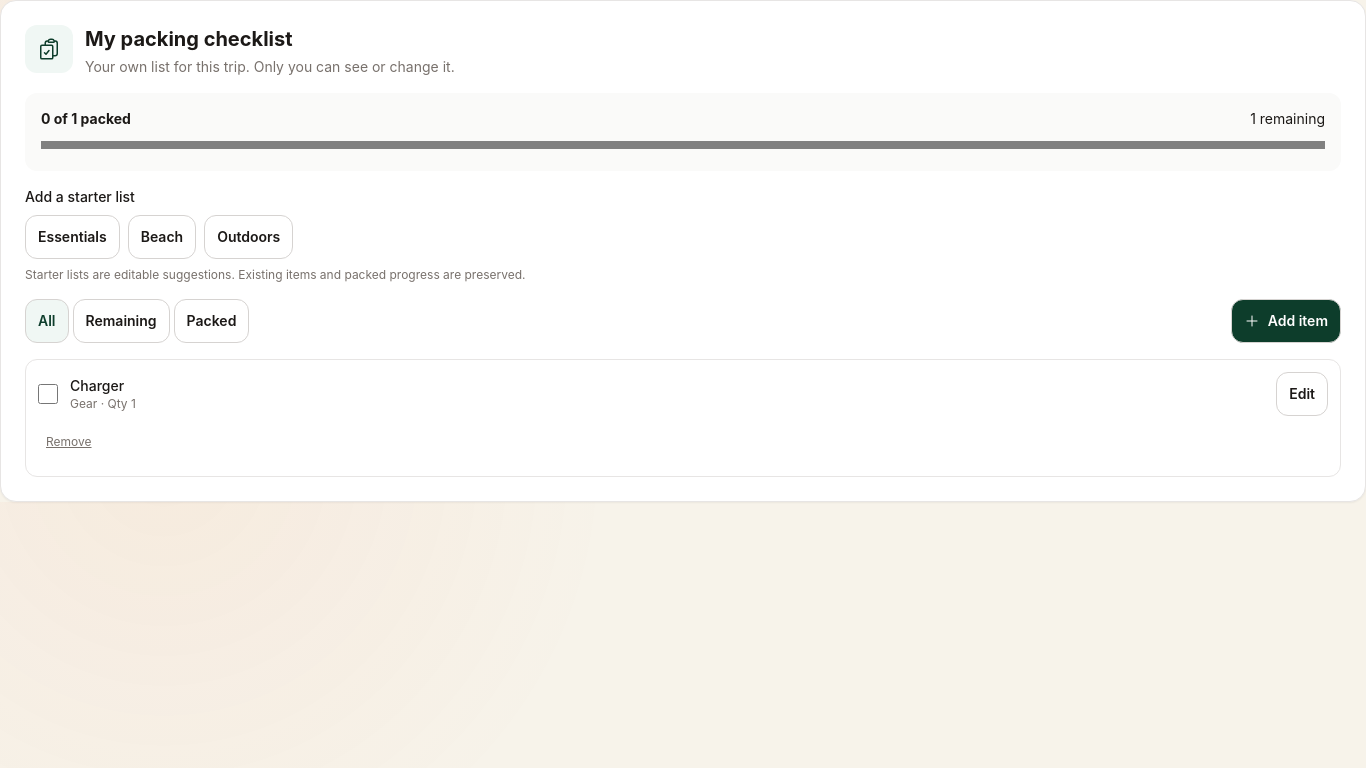
Test case: does not show failed updates as packed
What coordinates should you click on to do the following:
click the checkbox named "Packed: Charger"
I would click on:
 (48, 394)
Its box is [38,384,58,404].
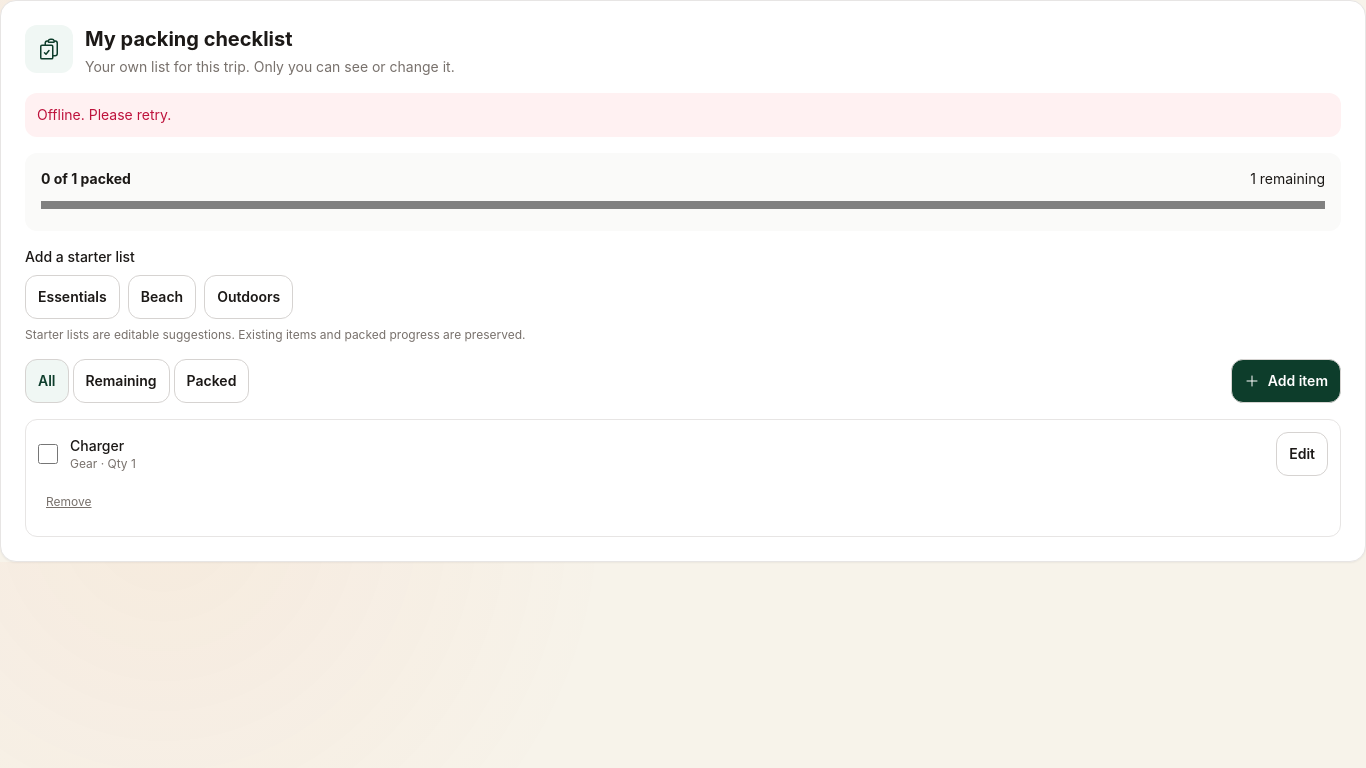
Expected: the checkbox named "Packed: Charger" is not checked, [38,444,58,464]
Now the message shows "Offline", box [37,106,171,123]
